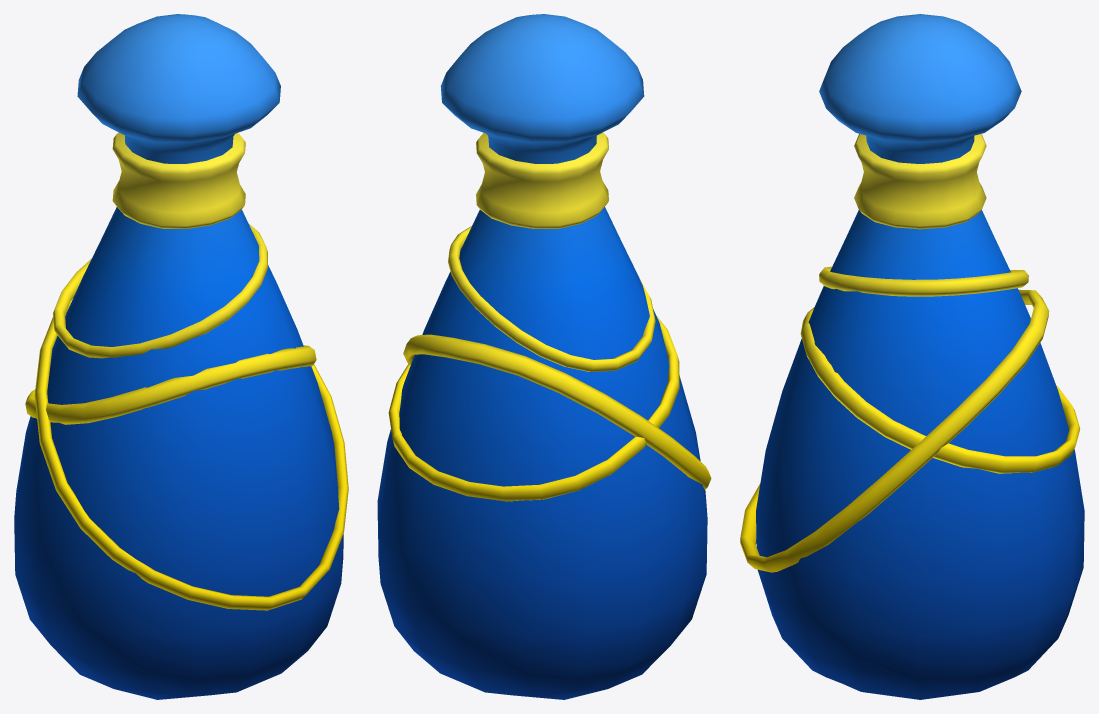
The model's file is Collectable_Potion_Bottle_01.fbx.
The picture shows the model from 3 angles, left to right: view 1: azimuth 30°, elevation 25°; view 2: azimuth 150°, elevation 25°; view 3: azimuth 270°, elevation 25°; orthographic projection.
Parts seen in each view (by area): view 1: Collectable_Potion_Bottle_01; view 2: Collectable_Potion_Bottle_01; view 3: Collectable_Potion_Bottle_01.
Part boxes in pixels (x1,y1,x2,y2): Collectable_Potion_Bottle_01: (14, 14, 348, 699); Collectable_Potion_Bottle_01: (377, 14, 711, 699); Collectable_Potion_Bottle_01: (740, 14, 1084, 699).
Size of the model in its own units: 24.84 by 54.87 by 26.02.
1 material, 1 textured.
